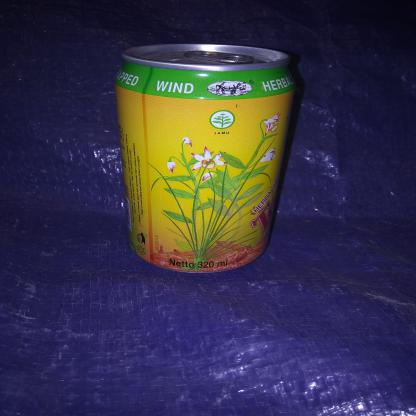mouse: (110, 39, 302, 276)
